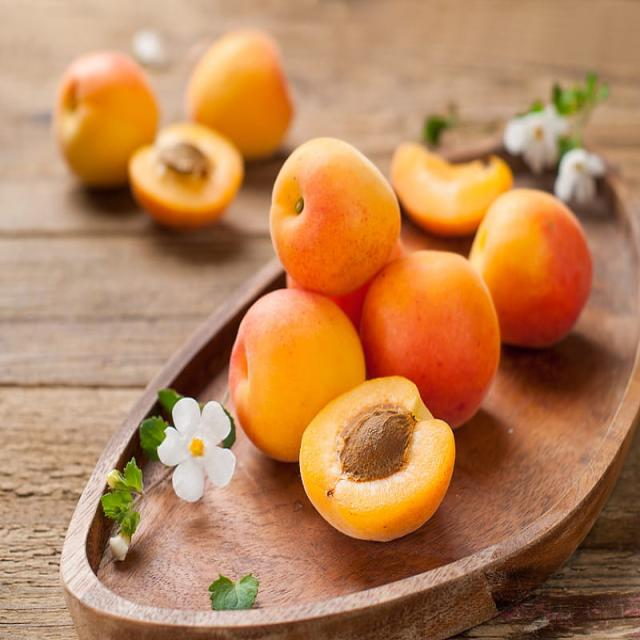cekirdek: (353, 415, 394, 467), (173, 150, 200, 176)
kayisi: (292, 139, 392, 279), (234, 290, 338, 423), (382, 268, 490, 393), (493, 185, 572, 317), (335, 386, 412, 502), (60, 69, 141, 169), (135, 133, 211, 210), (403, 154, 473, 230), (212, 44, 268, 126)
yaprak: (560, 75, 629, 133), (218, 581, 260, 623), (111, 482, 142, 527), (138, 402, 162, 447), (158, 389, 183, 418)
